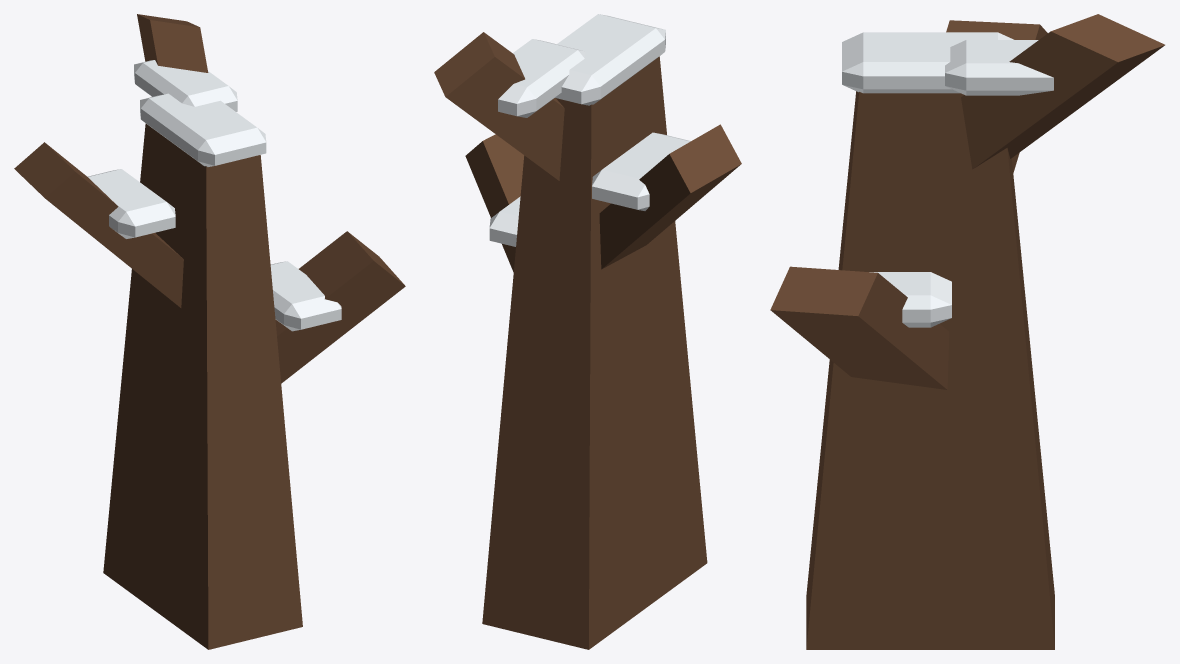
The model's file is env_r2_dead_tree.glb.
The picture shows the model from 3 angles, left to right: view 1: azimuth 30°, elevation 25°; view 2: azimuth 150°, elevation 25°; view 3: azimuth 270°, elevation 25°; orthographic projection. The views are drawn at different scales.
Visible parts, largest first — view 1: env_r2_dead_tree; view 2: env_r2_dead_tree; view 3: env_r2_dead_tree.
Part boxes in pixels (x1=…): env_r2_dead_tree: x1=14, y1=14, x2=405, y2=649; env_r2_dead_tree: x1=434, y1=14, x2=741, y2=649; env_r2_dead_tree: x1=770, y1=14, x2=1164, y2=649.
Bounding box in the file's own units: 2.2 × 3.8 × 2.2.
Materials: 1 (1 with a texture image).
